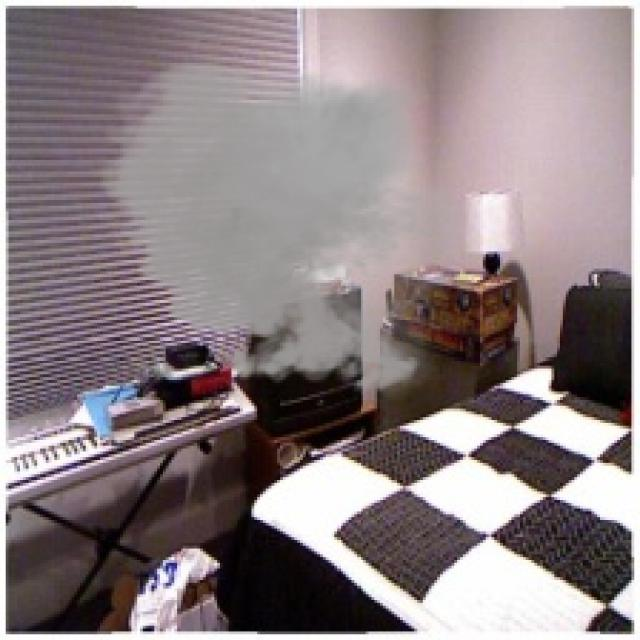smoke: (86, 48, 483, 403)
